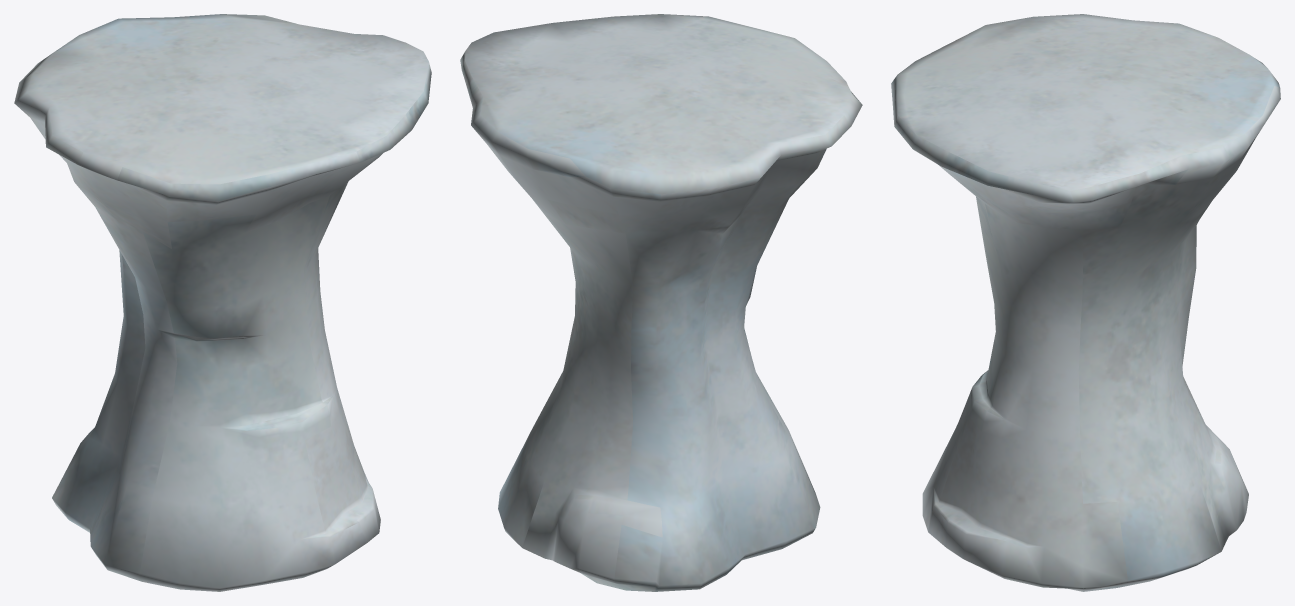
File: P_RockDesert_CliffA01.obj
3 renders of one model, left to right at view 1: azimuth 30°, elevation 25°; view 2: azimuth 150°, elevation 25°; view 3: azimuth 270°, elevation 25°, orthographic.
Bounding box in the file's own units: 44.48 × 51.91 × 40.17.
